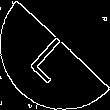L_NE: (28, 26, 82, 84)
